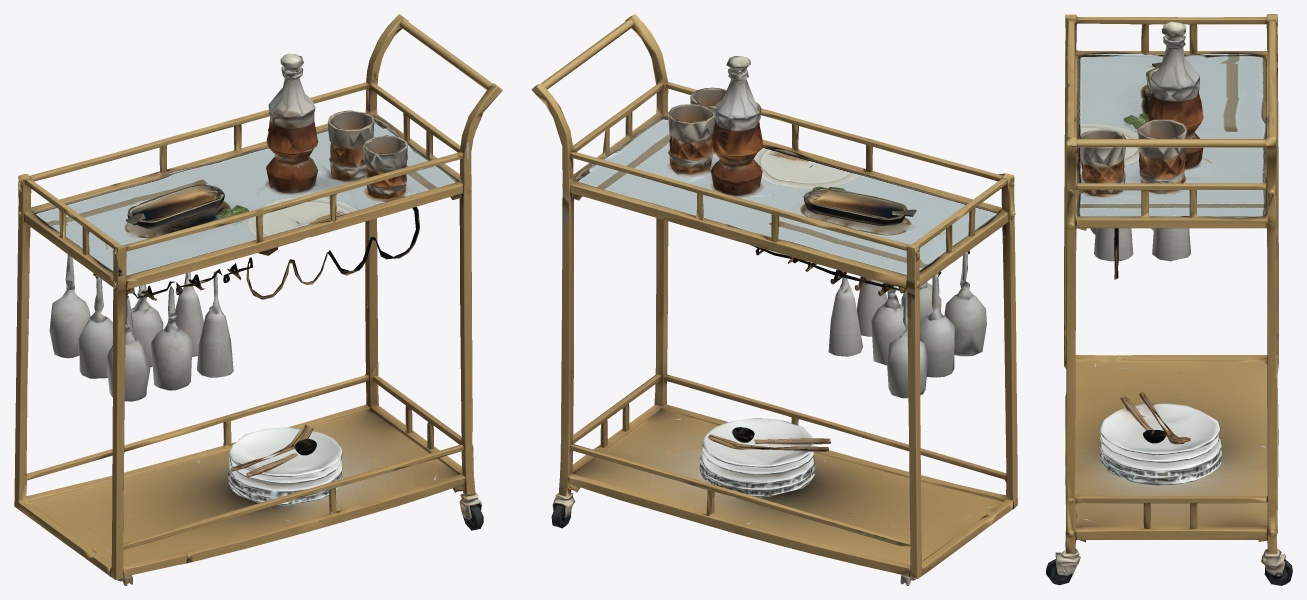
The model's file is Hi3D_bar_cart_v4_optimized.glb.
3 views of the same model, side by side, from view 1: azimuth 30°, elevation 25°; view 2: azimuth 150°, elevation 25°; view 3: azimuth 270°, elevation 25° (orthographic). The views are drawn at different scales.
Bounding box in the file's own units: 0.8749 × 0.9994 × 0.4525.
Materials: 1 (1 with a texture image).
